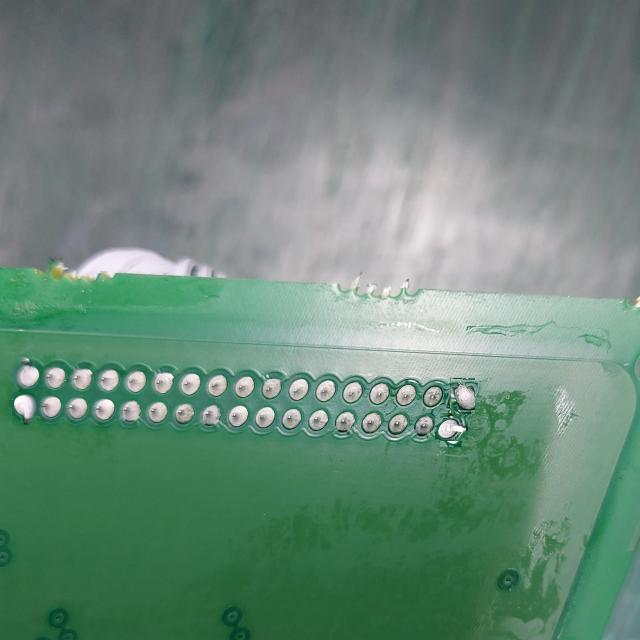slug: (450, 378, 475, 414), (12, 392, 37, 426), (437, 416, 466, 444)
